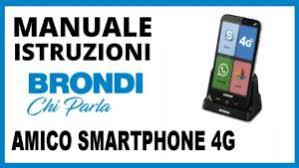Smartphone: (210, 10, 255, 114)
